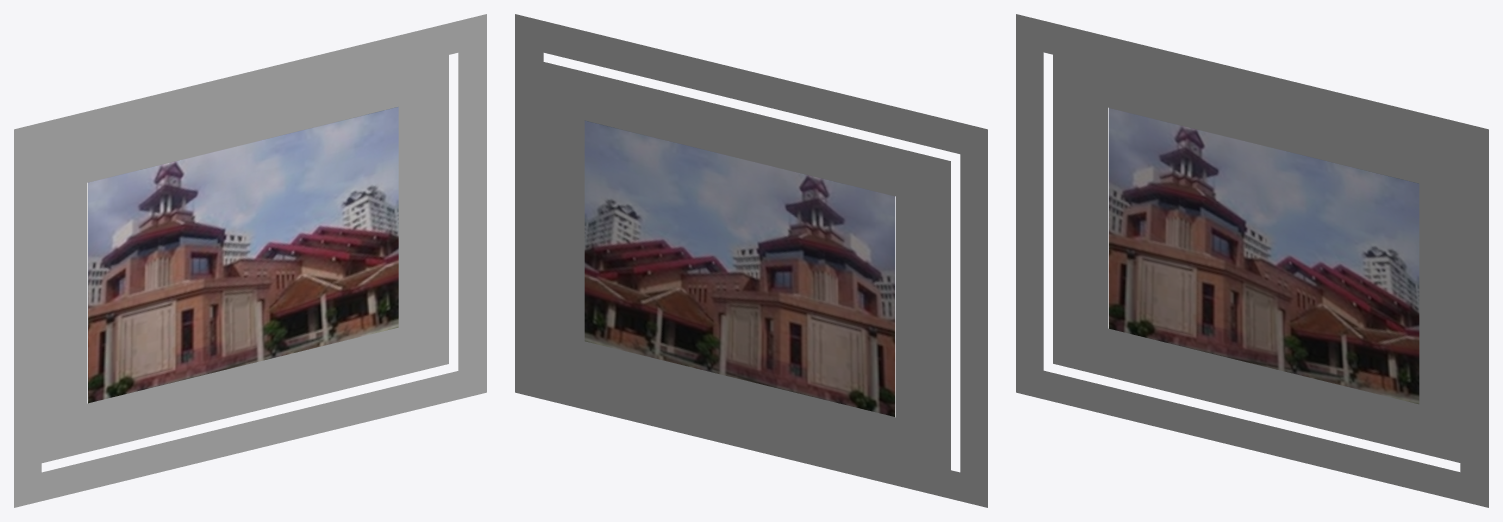
Rendered from picture1.dae.
3 renders of one model, left to right at view 1: azimuth 30°, elevation 25°; view 2: azimuth 150°, elevation 25°; view 3: azimuth 330°, elevation 25°, orthographic.
Visible parts, largest first — view 1: SketchUp (×4); view 2: SketchUp (×4); view 3: SketchUp (×4).
Part boxes in pixels (x1,y1,x2,y2): SketchUp (×4): (14,14,486,507); SketchUp (×4): (515,14,987,507); SketchUp (×4): (1016,14,1488,507).
Size of the model in its own units: 13.76 by 0.4724 by 10.53.
Materials: 2 (1 with a texture image).
